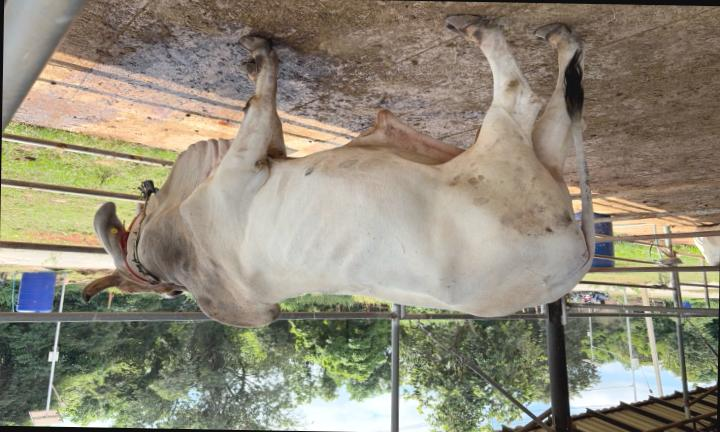Brahman: (82, 15, 595, 327)
